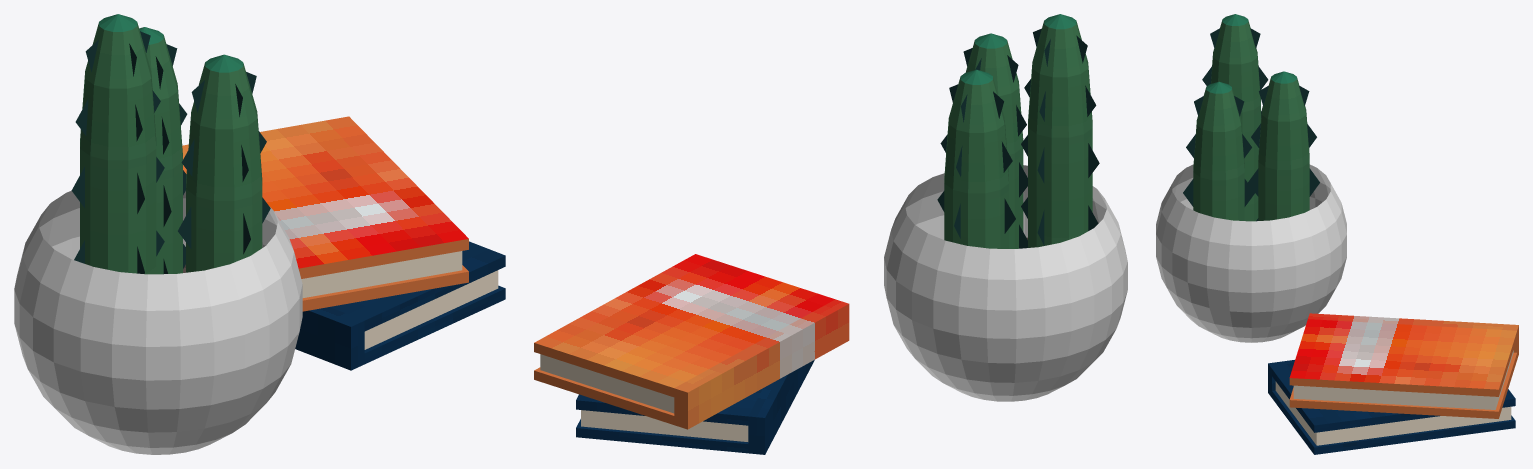
File: small_cactaceae.gltf
The picture shows the model from 3 angles, left to right: view 1: azimuth 30°, elevation 25°; view 2: azimuth 150°, elevation 25°; view 3: azimuth 270°, elevation 25°; orthographic projection. The views are drawn at different scales.
Parts seen in each view (by area): view 1: sphere; view 2: sphere; view 3: sphere.
Boxes of the visible parts, bbox=[...] form: sphere: bbox=[14, 14, 505, 454]; sphere: bbox=[534, 14, 1127, 454]; sphere: bbox=[1156, 14, 1518, 454].
Size of the model in its own units: 0.7771 by 0.625 by 0.6984.
1 material, 1 textured.
